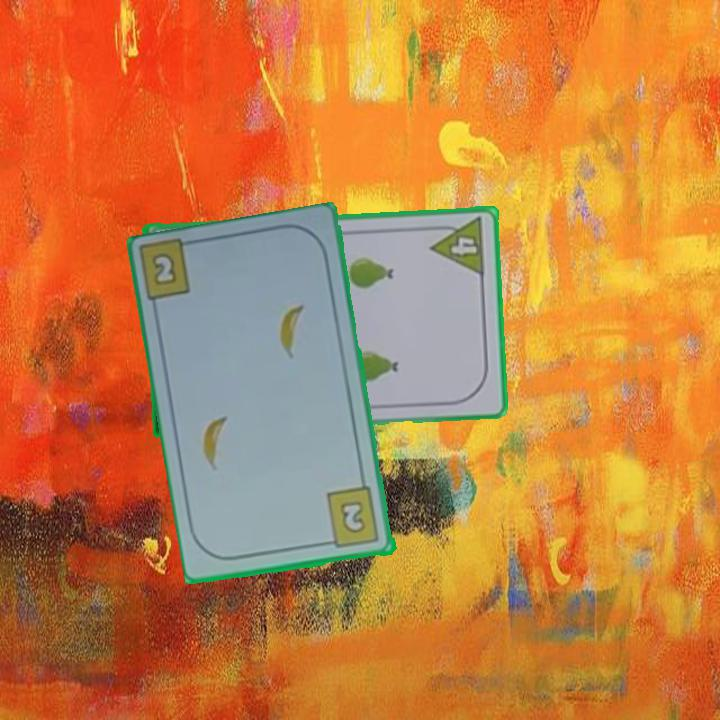2b: (137, 238, 202, 307), (321, 484, 383, 552)
4p: (427, 214, 488, 279)
